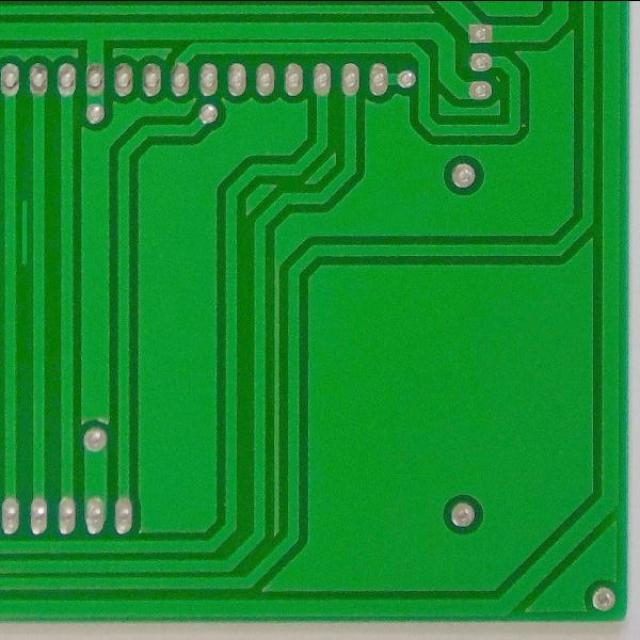Spurious_Cooper: (17, 194, 33, 270)
